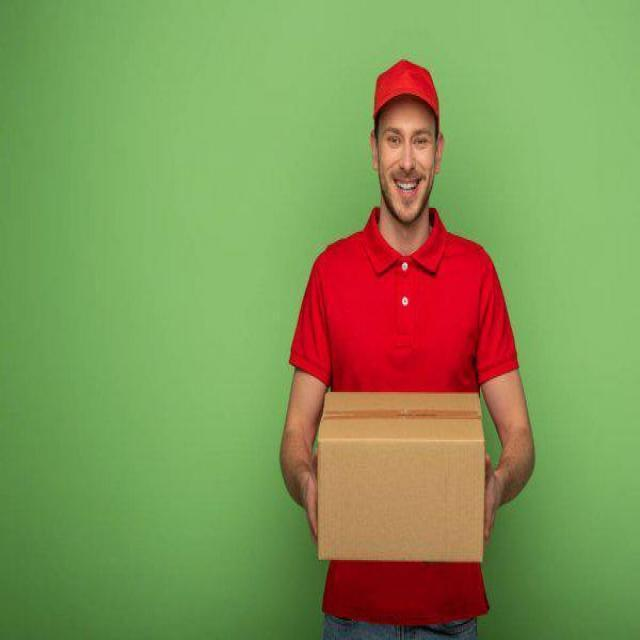box: (313, 375, 486, 580)
